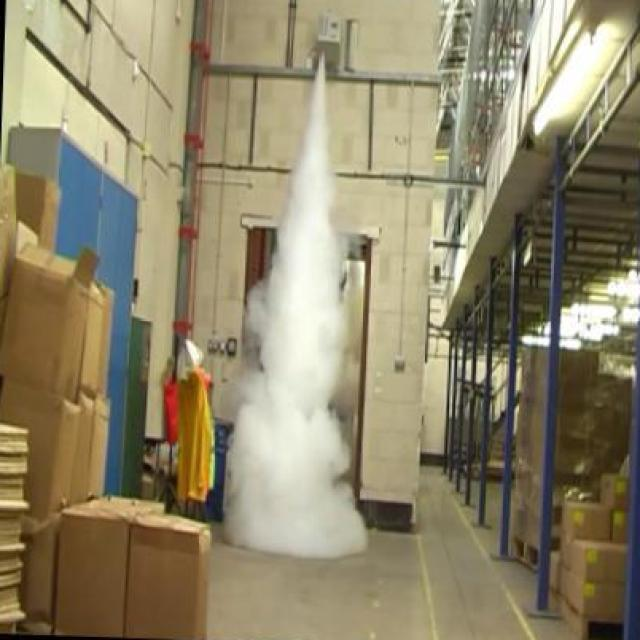fire: (218, 86, 369, 567)
